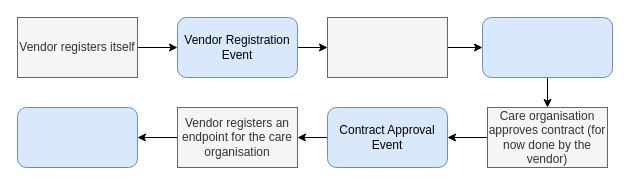
Image size: 630x185. Some labels were removed from this diagram. Each missing label, with the centre of its shape:
Contract Proposal Event: (547,47)
Endpoint Registration Event: (77,137)
Vendor proposes a contract with a care organisation: (387,47)
